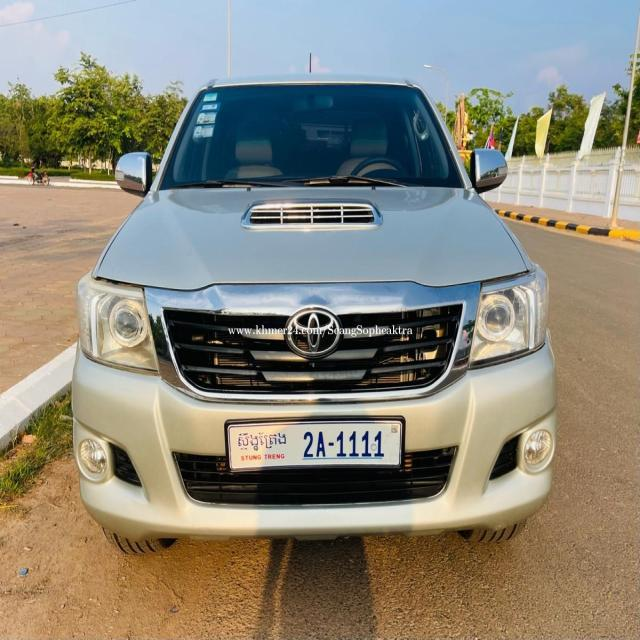Stung_Treng: (238, 431, 286, 451)
